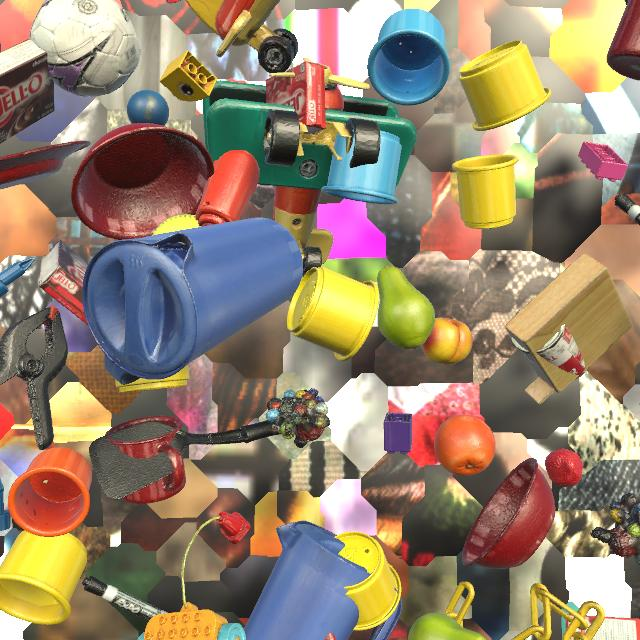ycb_005_tomato_soup_can: (510, 307, 588, 379)
ycb_008_pudding_box: (0, 38, 55, 144), (39, 240, 88, 325)
ycb_009_gelatin_box: (266, 61, 326, 134), (565, 614, 640, 640)
ycb_012_strawberry: (545, 449, 583, 487)
ycb_015_peach: (422, 318, 473, 365)
ycb_016_pear: (377, 266, 435, 349), (408, 613, 486, 640)
ycb_017_orange: (434, 414, 496, 476)
ycb_018_plum: (0, 43, 1, 52)
